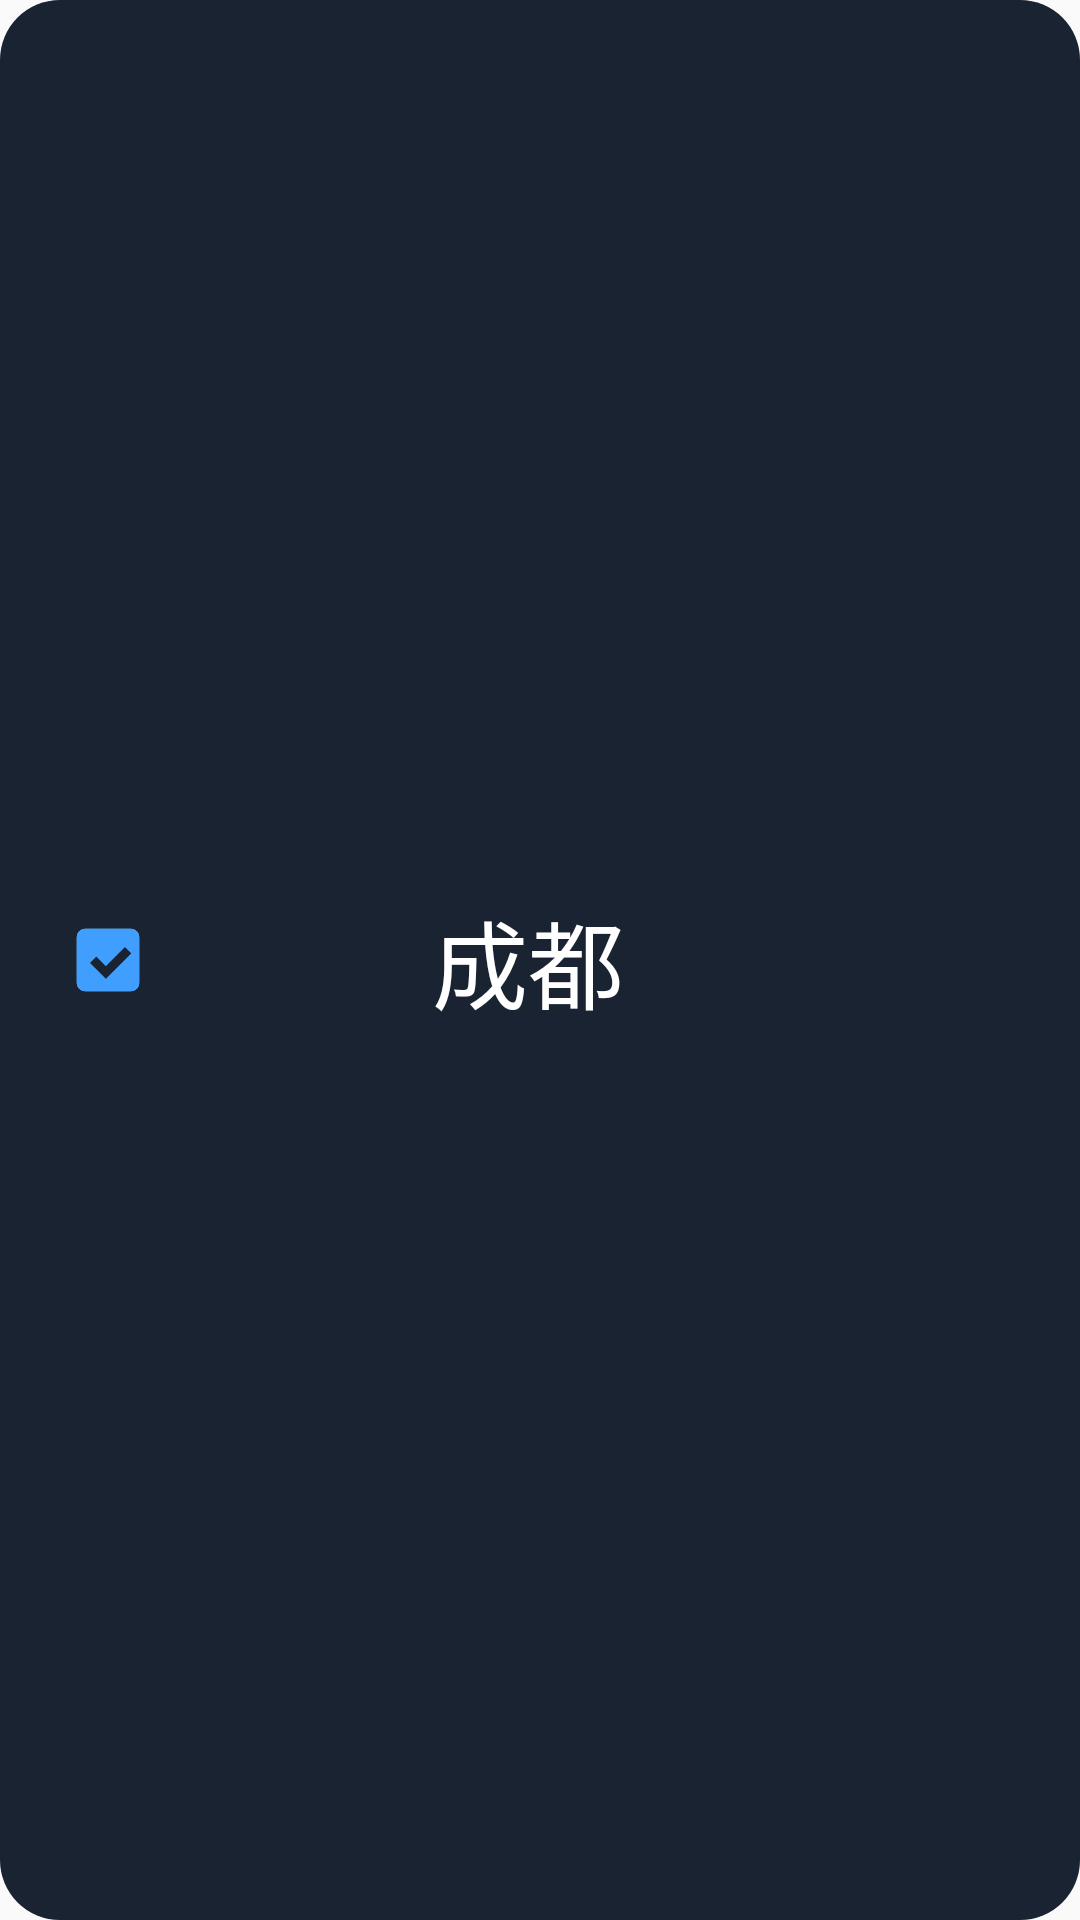

Where icons sit on this 1080px x 1920px app screen, as (x1, y1, x2, y2):
select already: (76, 928, 140, 992)
